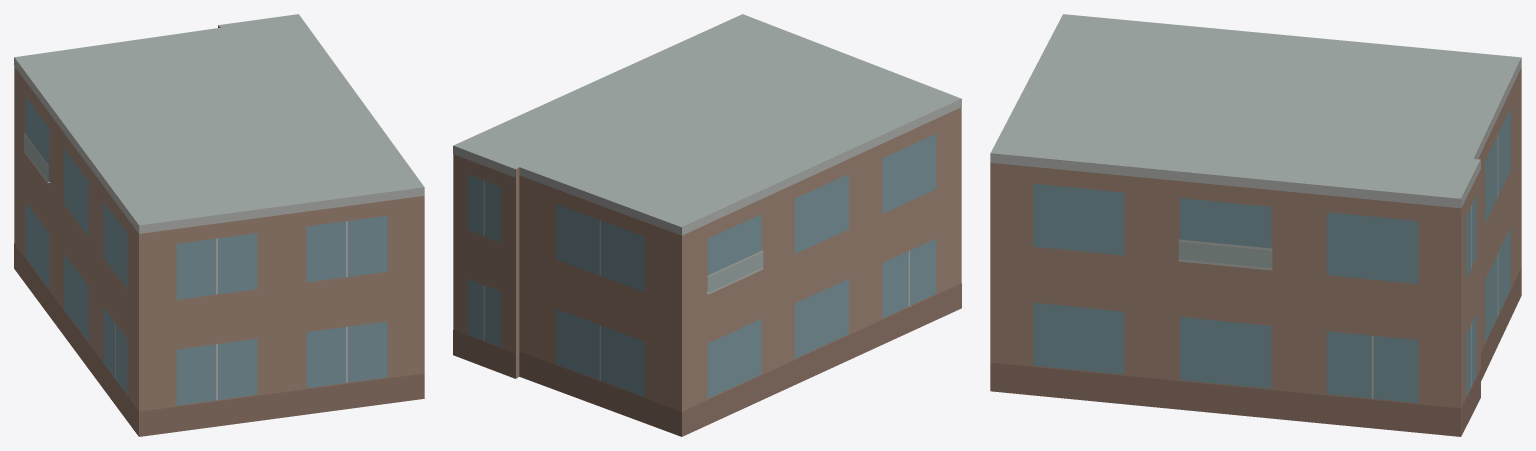
File: survey-upis-32585588.glb
3 renders of one model, left to right at view 1: azimuth 30°, elevation 25°; view 2: azimuth 150°, elevation 25°; view 3: azimuth 270°, elevation 25°, orthographic. The views are drawn at different scales.
Visible parts, largest first — view 1: survey-upis-32585588.tmp; view 2: survey-upis-32585588.tmp; view 3: survey-upis-32585588.tmp.
Part boxes in pixels (bbox=[...]): survey-upis-32585588.tmp: bbox=[14, 14, 424, 436]; survey-upis-32585588.tmp: bbox=[453, 14, 961, 436]; survey-upis-32585588.tmp: bbox=[990, 14, 1521, 436].
Size of the model in its own units: 10.17 by 6.1 by 12.35.
